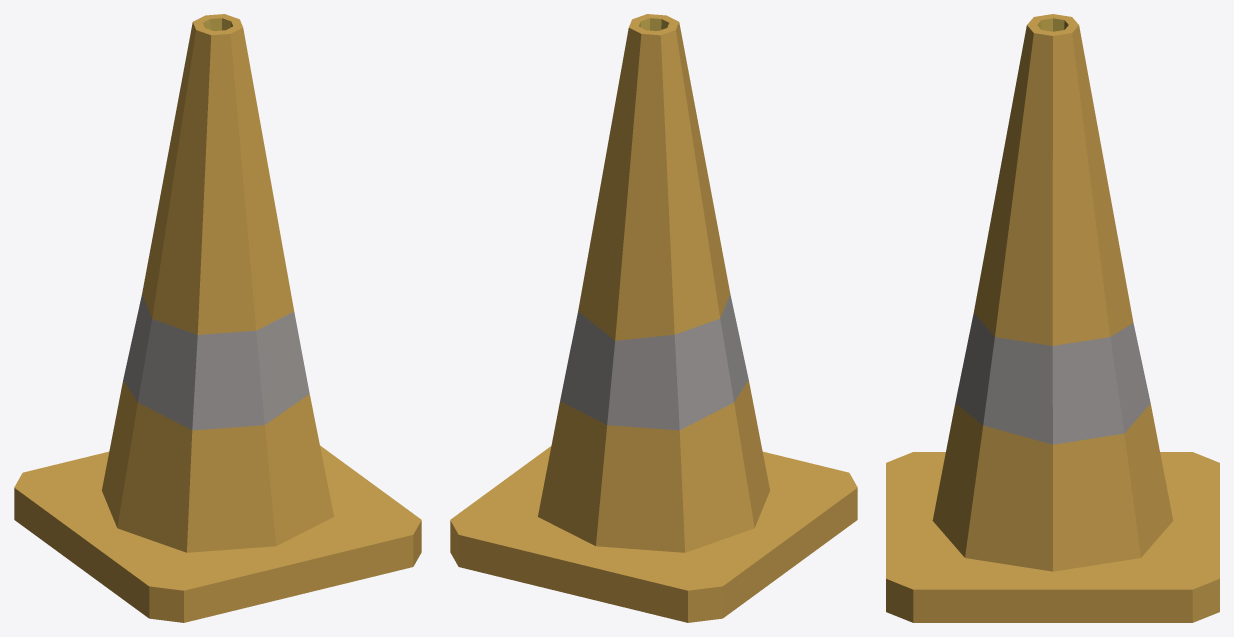
File: SM_Prop_Cone_01.glb
3 renders of one model, left to right at view 1: azimuth 30°, elevation 25°; view 2: azimuth 150°, elevation 25°; view 3: azimuth 270°, elevation 25°, orthographic. The views are drawn at different scales.
Parts seen in each view (by area): view 1: SM_Prop_Cone_01; view 2: SM_Prop_Cone_01; view 3: SM_Prop_Cone_01.
Boxes of the visible parts, x1,y1,x2,y2 form: SM_Prop_Cone_01: (14,14,421,622); SM_Prop_Cone_01: (450,14,857,622); SM_Prop_Cone_01: (886,14,1219,622).
Size of the model in its own units: 0.4711 by 0.8442 by 0.4827.
Materials: 1 (1 with a texture image).
